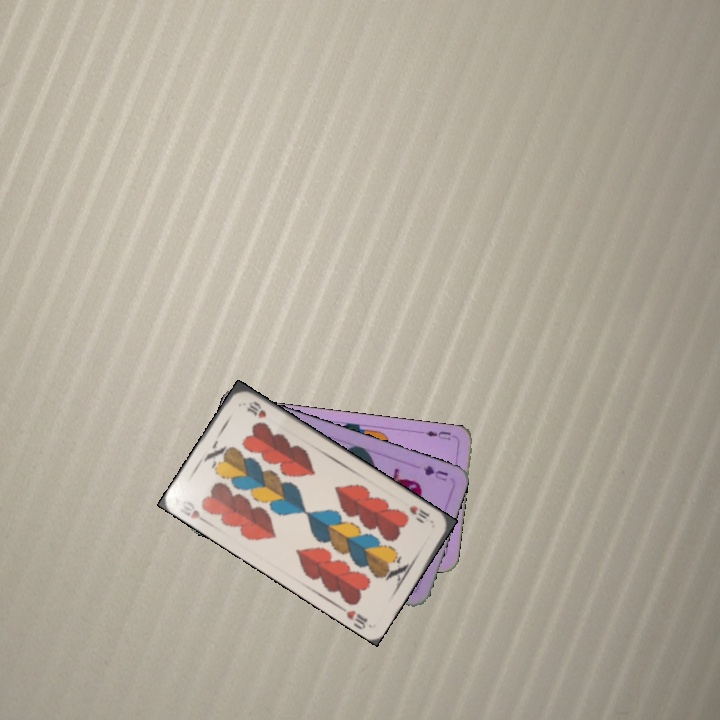EU: (417, 427, 453, 442)
GU: (419, 461, 451, 484)
H10: (176, 496, 212, 527), (405, 501, 432, 522)
